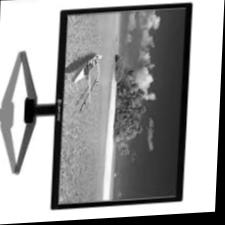monitor: (32, 0, 199, 210)
